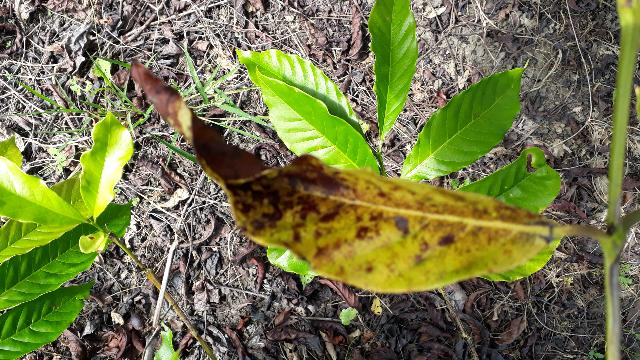red_spider_mite: (82, 67, 509, 302)
